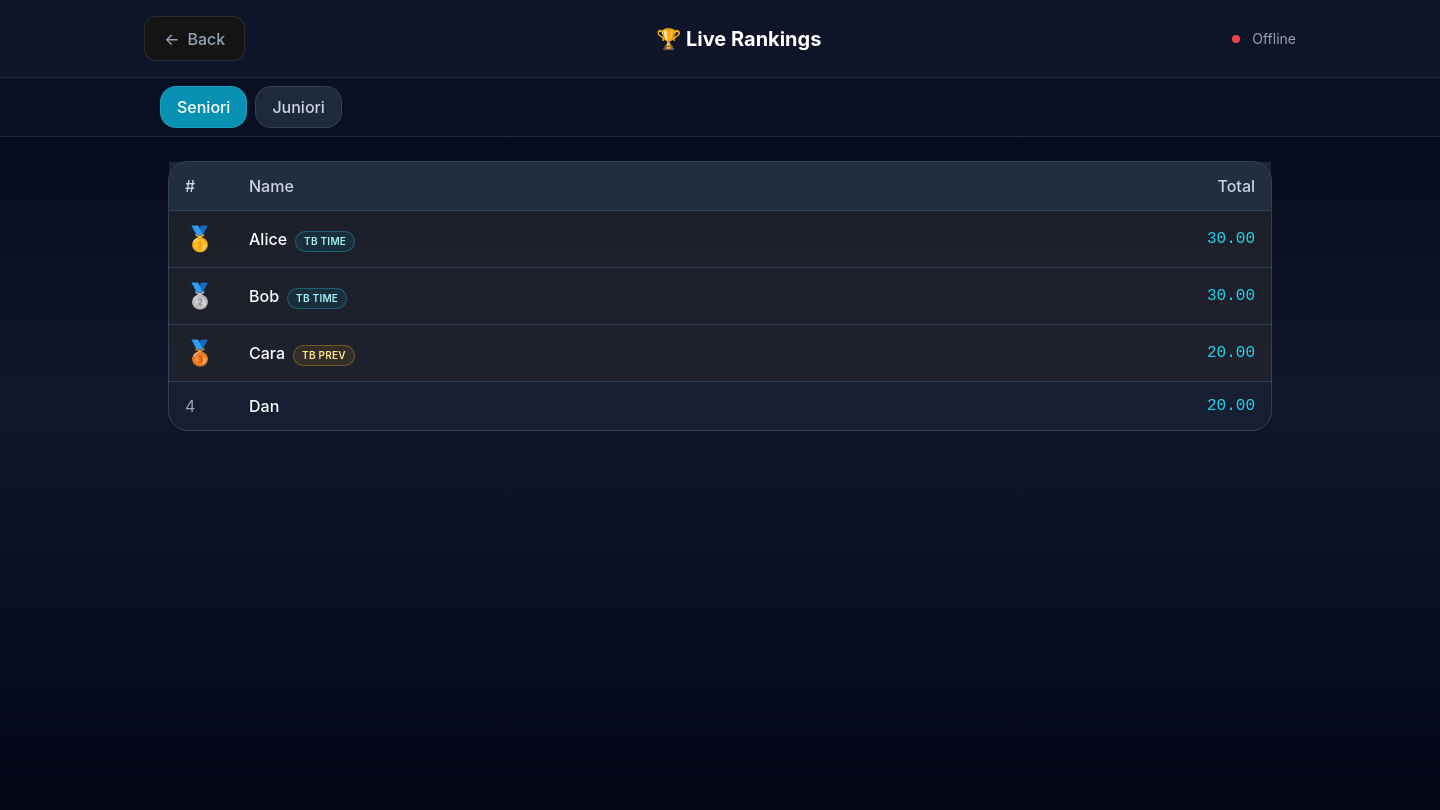
PublicRankings TB interactive badges › opens TB Time popover with tie reason, members, holds and times
Expected: the text "Alice" is shown, [249, 227, 287, 251]
Click the button with aria-label "TB Time details for Alice": x=325, y=241 [295, 231, 355, 252]
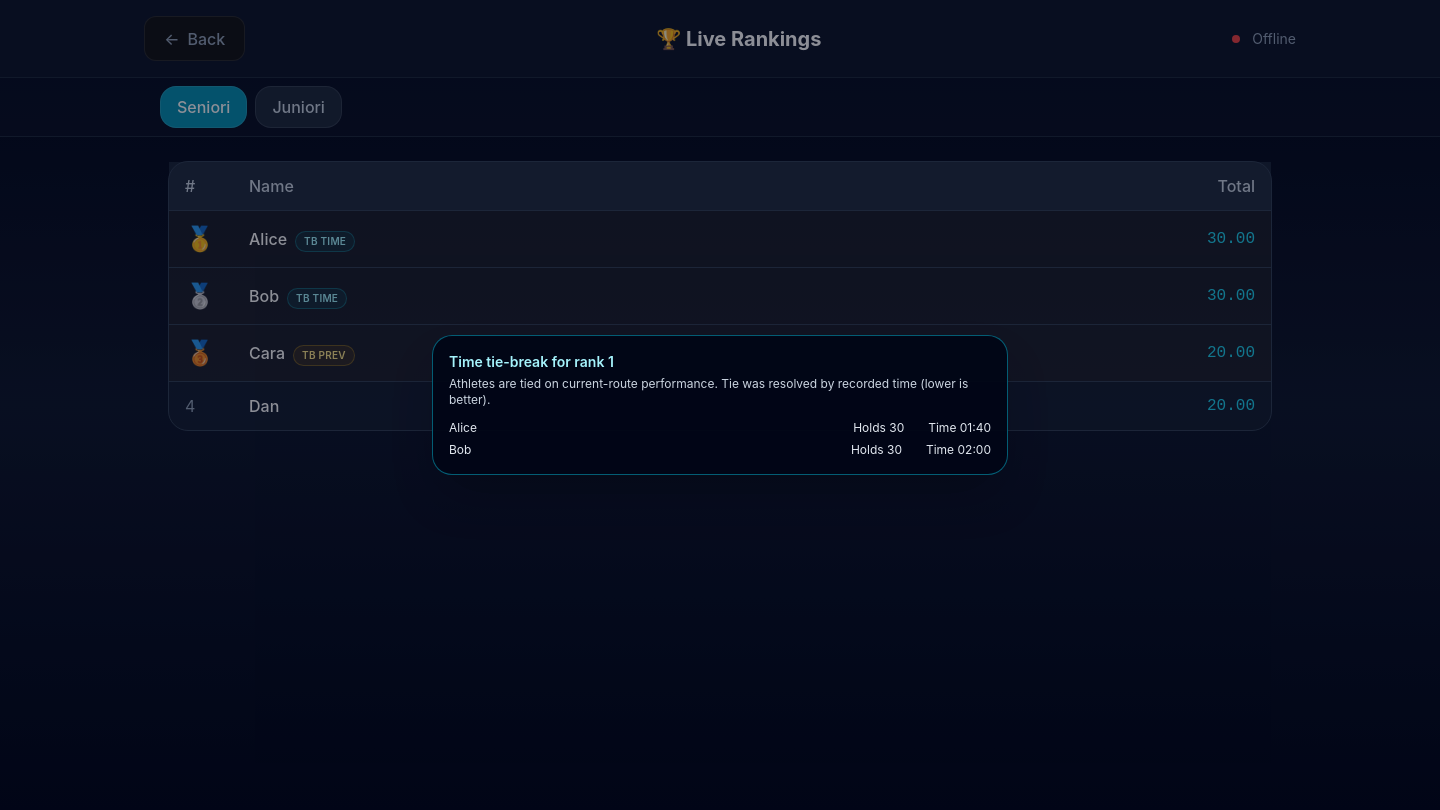
Expected: the text "Time tie-break for rank 1" is shown, [449, 353, 614, 370]
Expected: the text "Athletes are tied on current-route performance. Tie was resolved by recorded time" is shown, [449, 376, 968, 407]
Expected: the text "Holds 30" in the row of "01:40" is shown, [853, 420, 904, 436]
